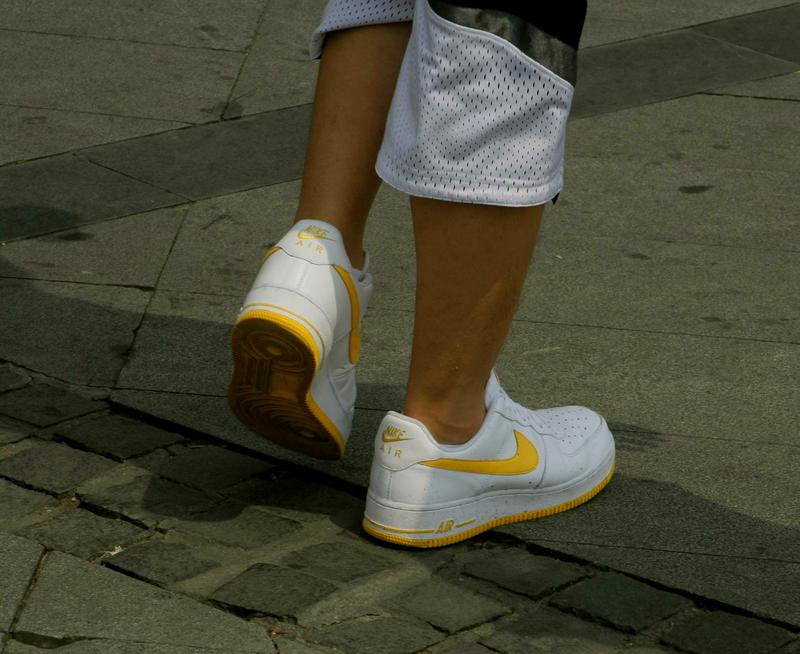nike: (420, 428, 543, 475)
